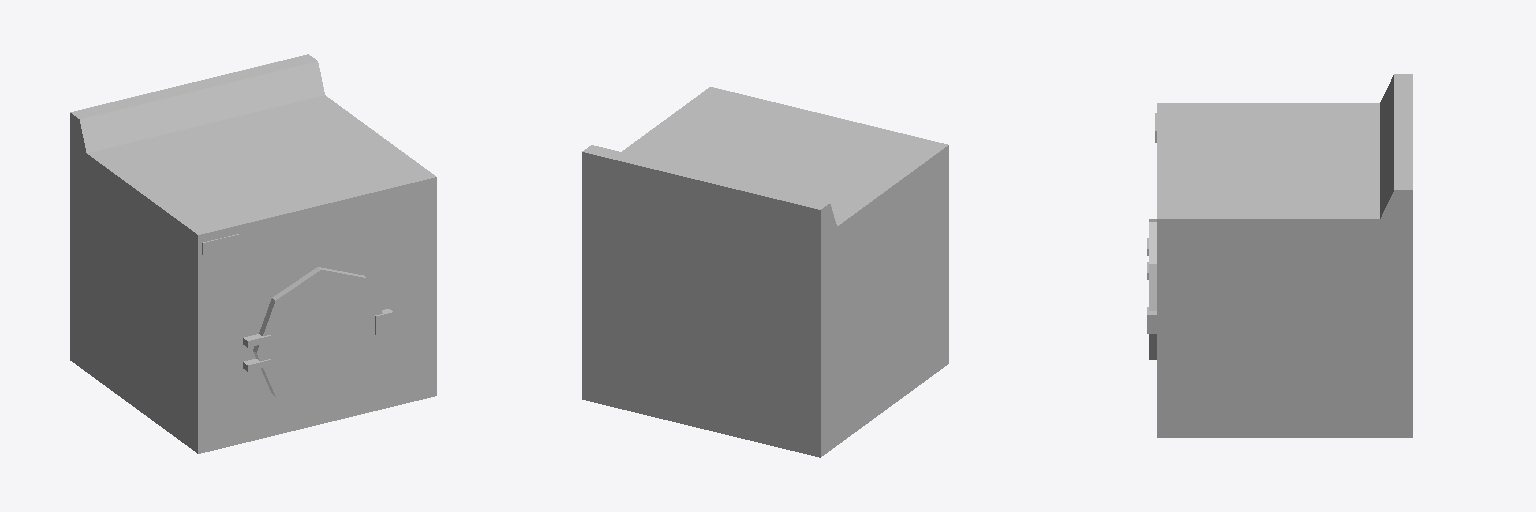
File: example_block.obj
The picture shows the model from 3 angles: view 1: azimuth 30°, elevation 25°; view 2: azimuth 150°, elevation 25°; view 3: azimuth 270°, elevation 25°; orthographic projection.
Parts seen in each view (by area): view 1: Cube; view 2: Cube; view 3: Cube.
Boxes of the visible parts, x1,y1,x2,y2 form: Cube: [70, 54, 436, 453]; Cube: [582, 87, 948, 457]; Cube: [1147, 74, 1412, 437].
Bounding box in the file's own units: 1 × 0.9924 × 0.9684.